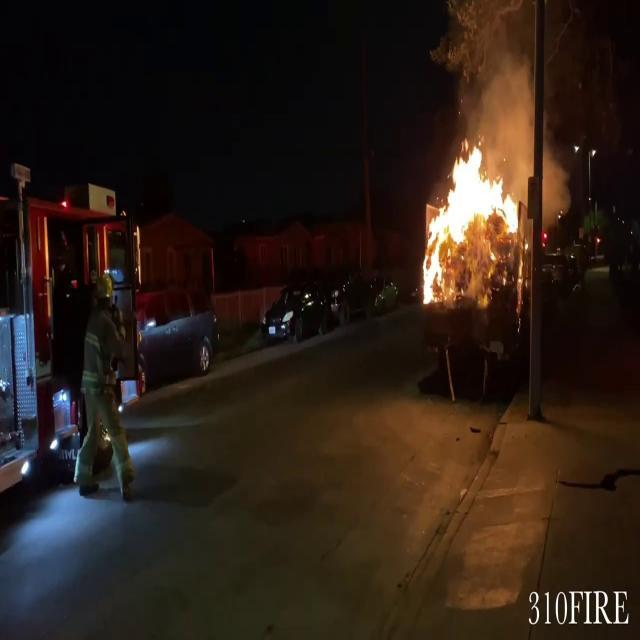Fire: (415, 134, 525, 302)
